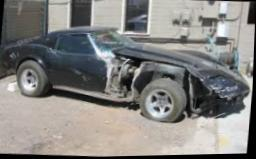Bumper: (192, 93, 251, 118)
Fender: (106, 56, 207, 100)
